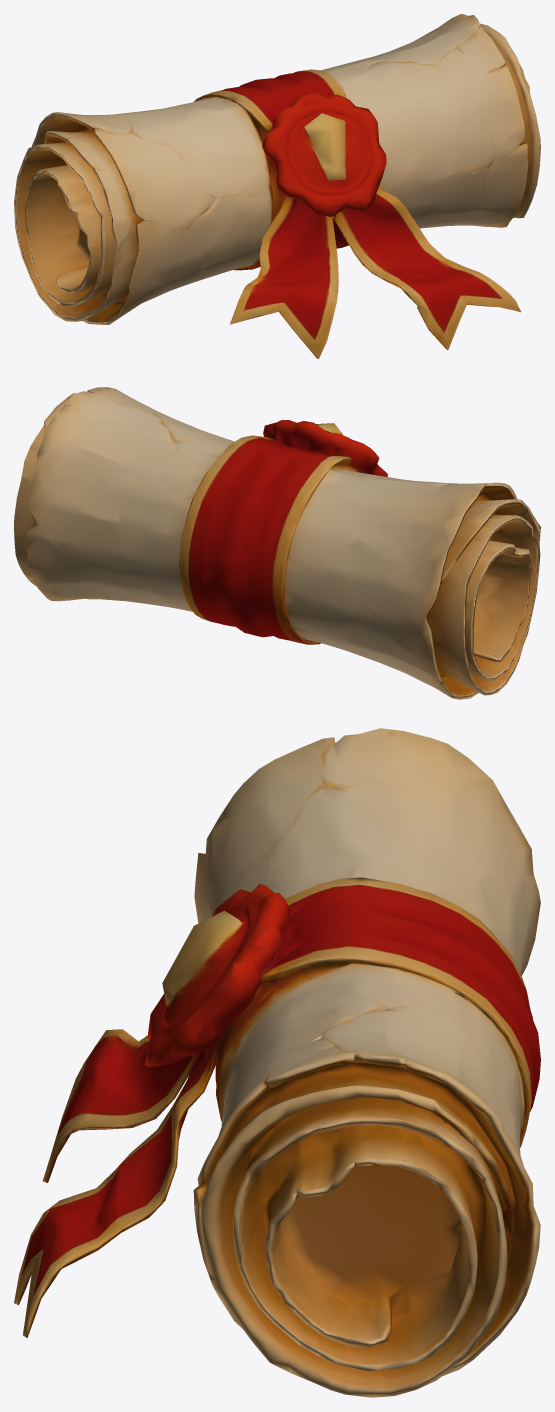
Rendered from scroll_for_secretary.fbx.
The picture shows the model from 3 angles, top to bottom: view 1: azimuth 30°, elevation 25°; view 2: azimuth 150°, elevation 25°; view 3: azimuth 270°, elevation 25°; orthographic projection. The views are drawn at different scales.
Parts seen in each view (by area): view 1: tripo_node_23bf707f; view 2: tripo_node_23bf707f; view 3: tripo_node_23bf707f.
Boxes of the visible parts, x1=… form: tripo_node_23bf707f: x1=14, y1=14, x2=540, y2=358; tripo_node_23bf707f: x1=14, y1=387, x2=540, y2=699; tripo_node_23bf707f: x1=14, y1=728, x2=540, y2=1397.
Size of the model in its own units: 100 by 60.12 by 45.73.
1 material, 1 textured.
